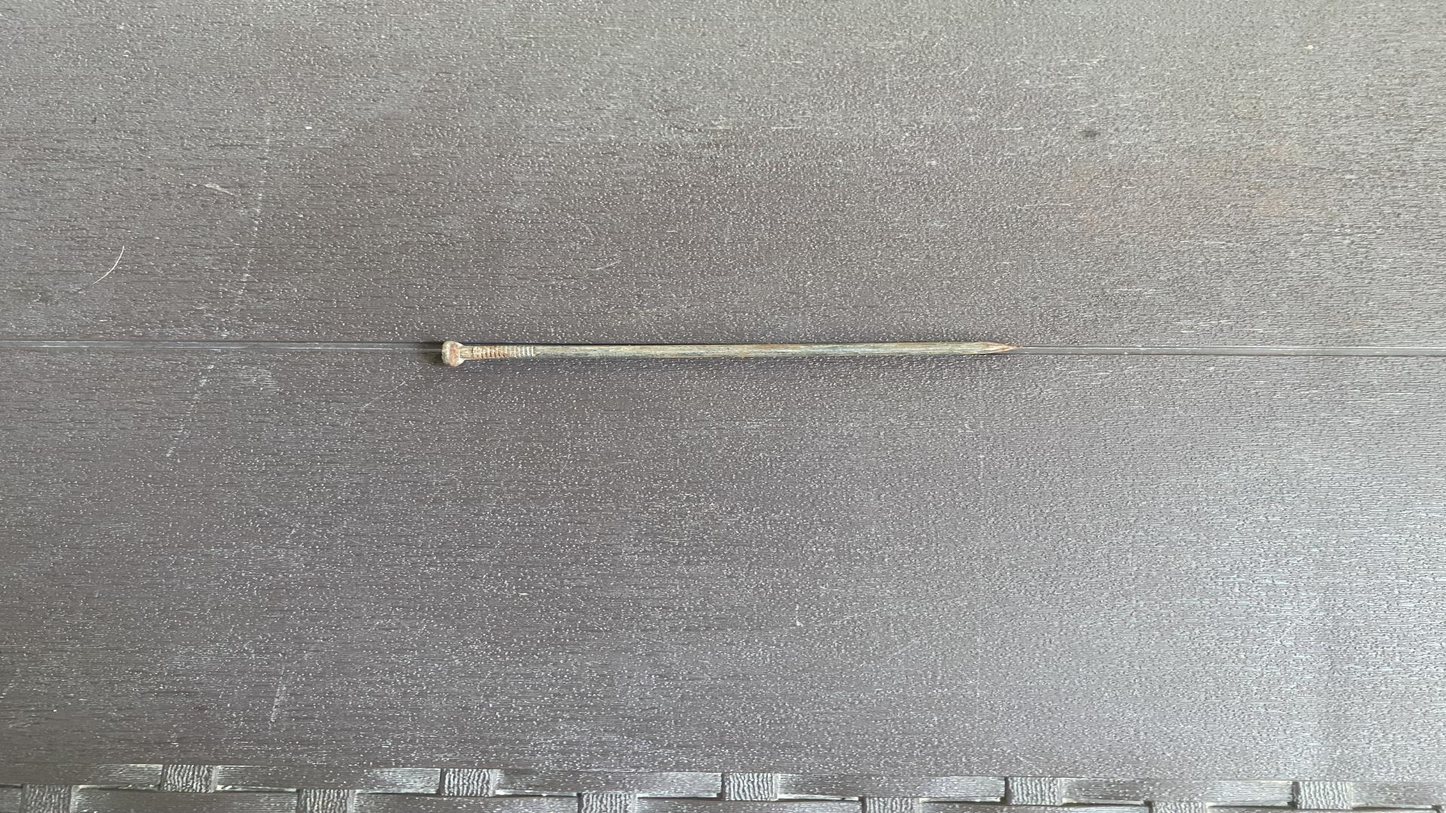nail: (397, 311, 1069, 381)
